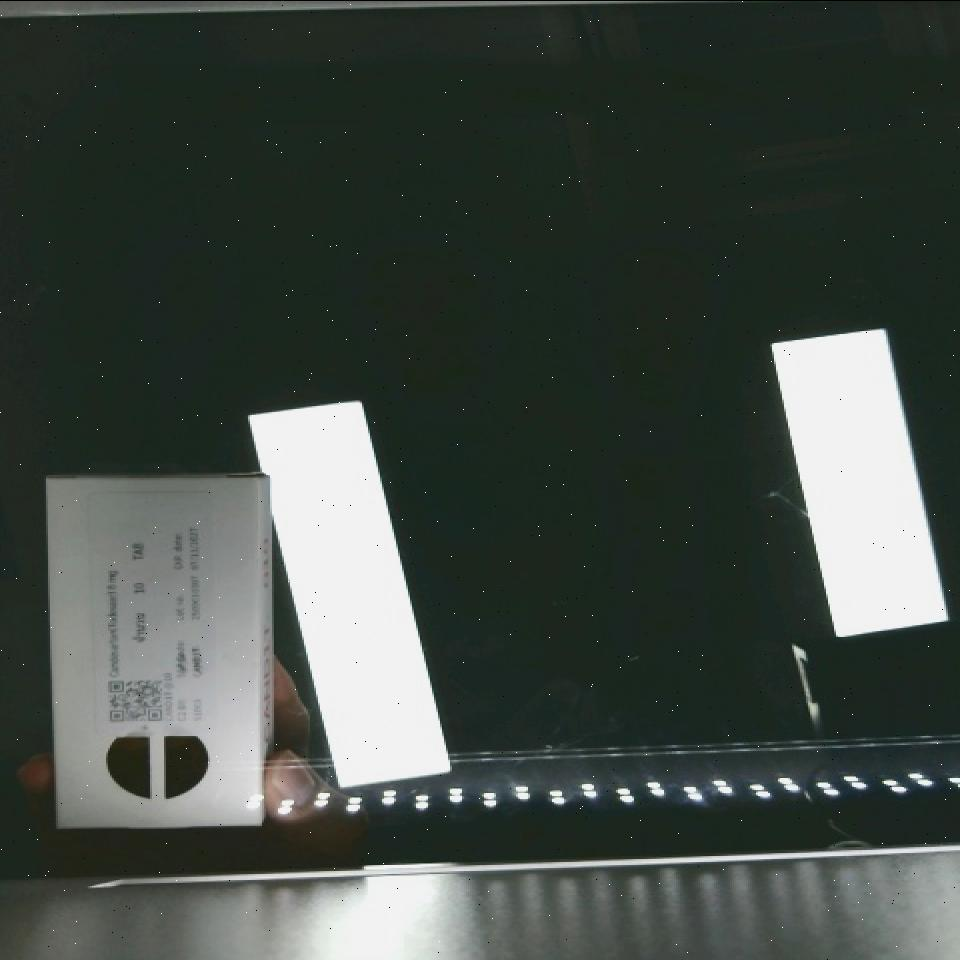medicine_box: (50, 476, 265, 827)
qr_code: (87, 664, 178, 733)
